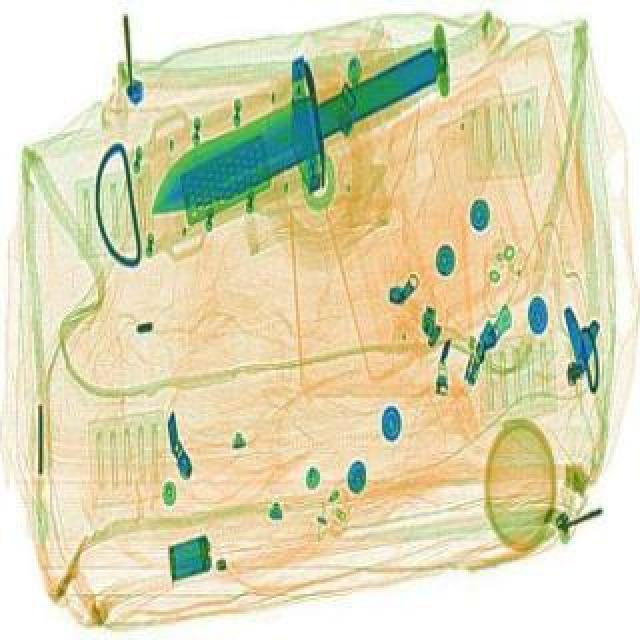knife: (110, 0, 478, 268)
